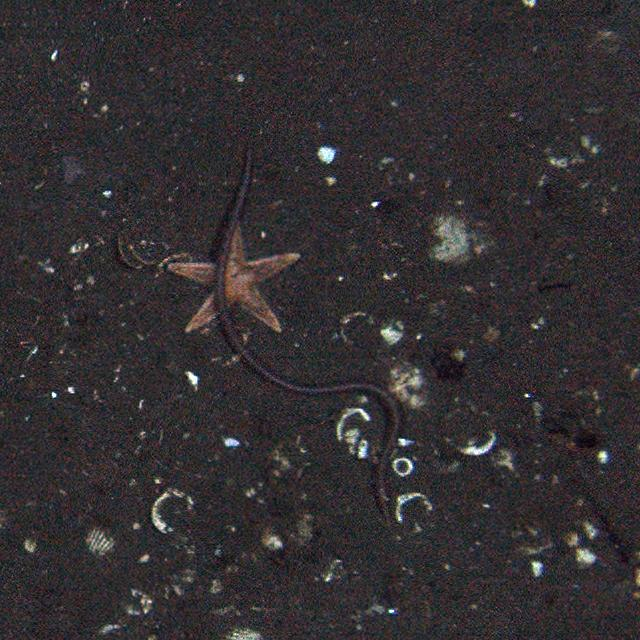eel: (214, 148, 403, 528)
